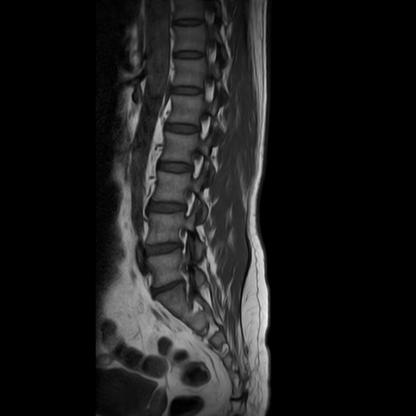Disc Bulgerotation: (143, 240, 186, 258), (151, 281, 188, 296)
